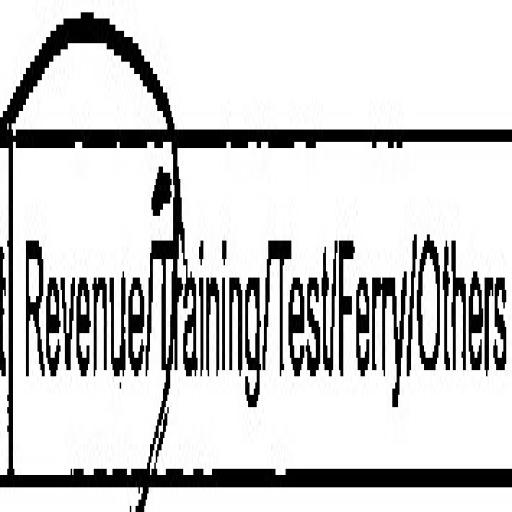check: (10, 0, 150, 512)
